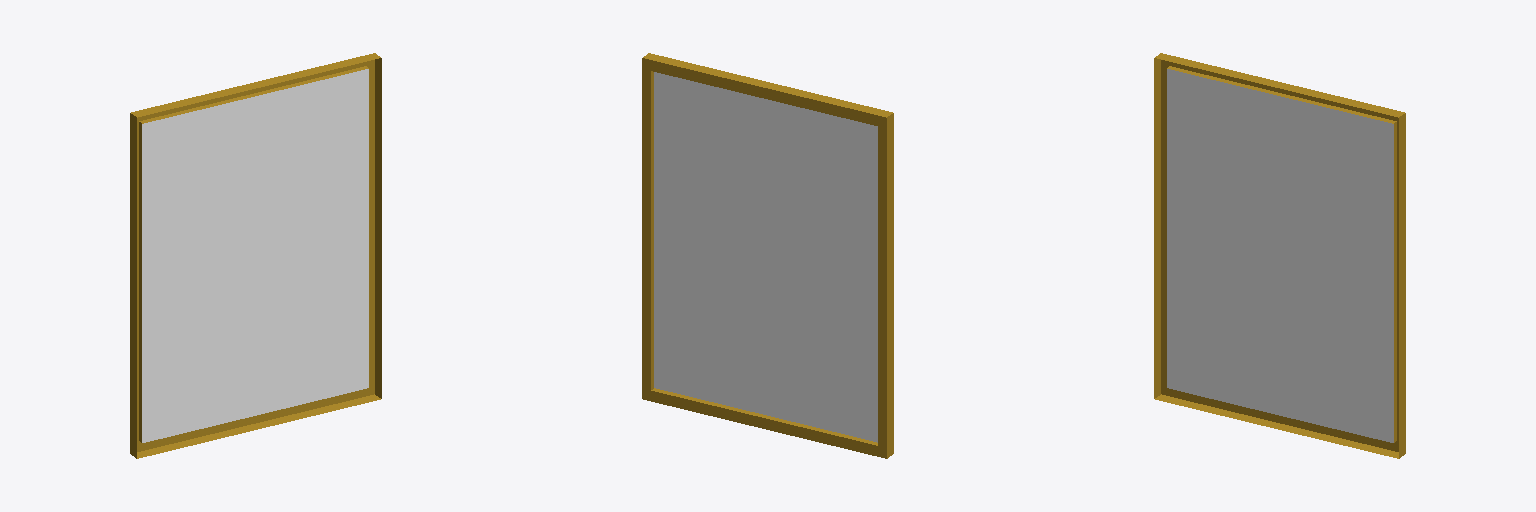
The model's file is frame3.obj.
3 renders of one model, left to right at view 1: azimuth 30°, elevation 25°; view 2: azimuth 150°, elevation 25°; view 3: azimuth 330°, elevation 25°, orthographic.
Visible parts, largest first — view 1: frame3; view 2: frame3; view 3: frame3.
Boxes of the visible parts, x1,y1,x2,y2 form: frame3: [130, 53, 381, 458]; frame3: [642, 53, 893, 458]; frame3: [1154, 53, 1405, 458].
Bounding box in the file's own units: 0.8512 × 1.14 × 0.041.